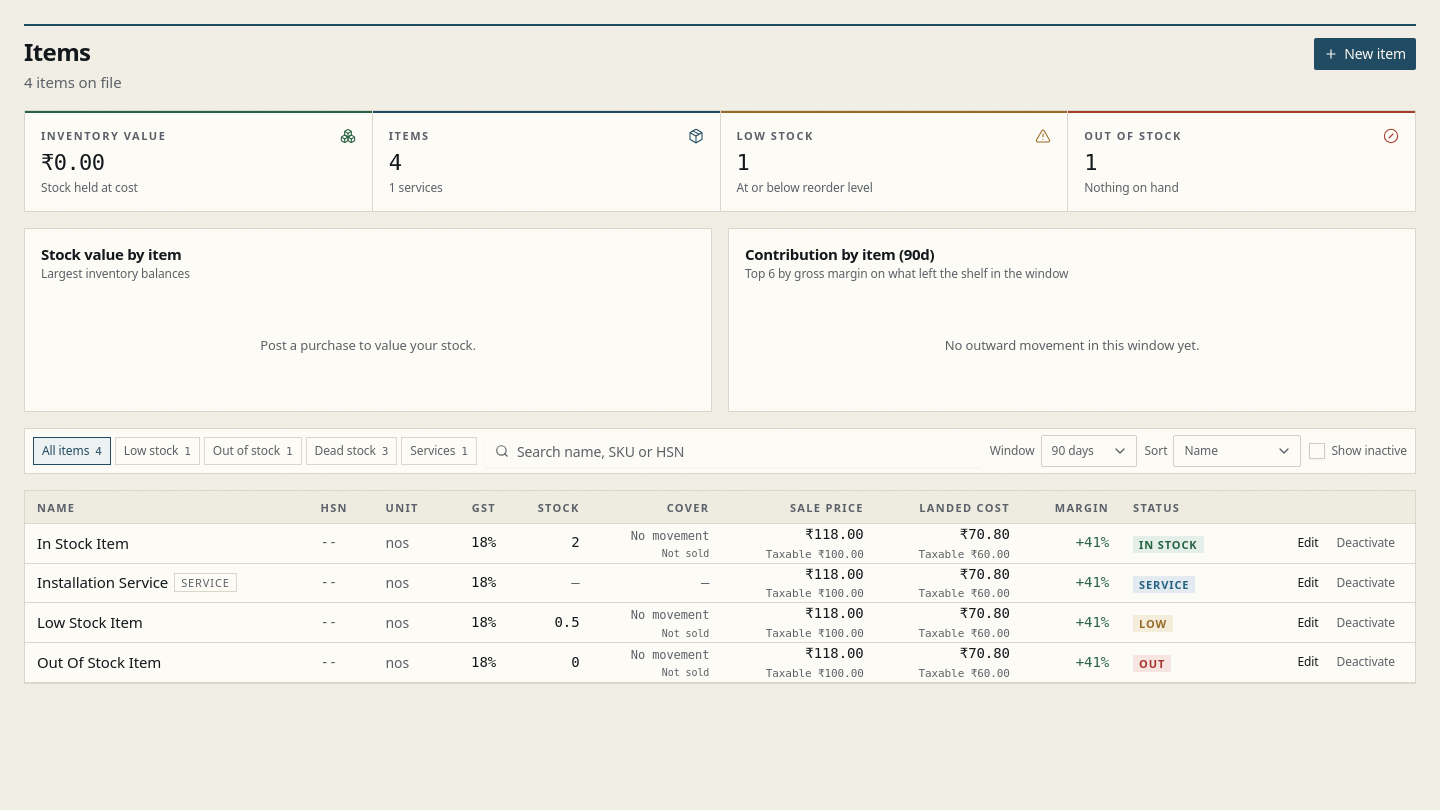
Test: ItemsPage analysis › exposes a real dead-stock filter in the item toolbar
The width and height of the screenshot is (1440, 810).
Expected: the link "Installation Service" is shown, [37, 571, 168, 595]
Click the button "Dead stock 3": (351, 451) [306, 437, 397, 465]
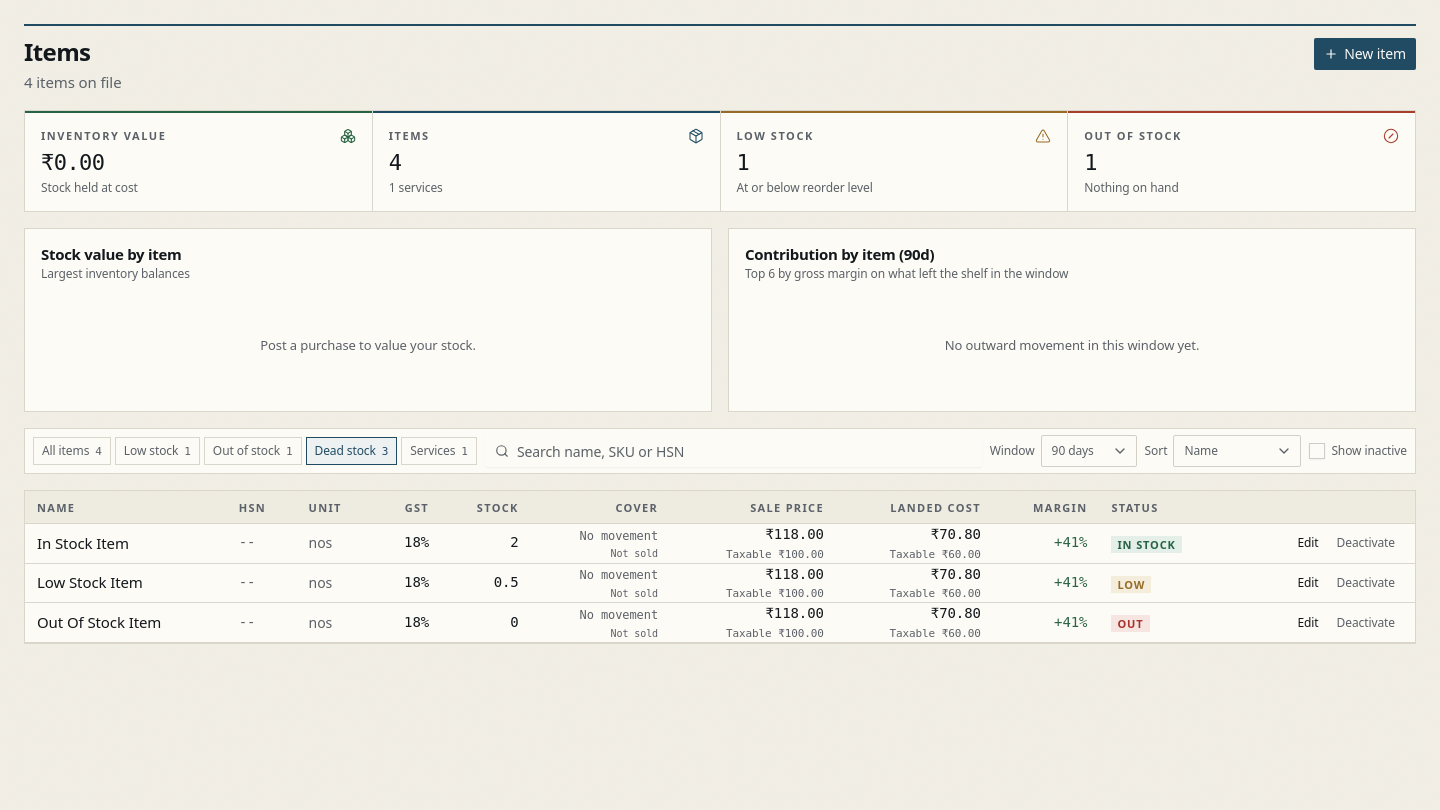
Expected: the link "In Stock Item" is shown, [37, 532, 129, 555]
Expected: the link "Installation Service" is gone
